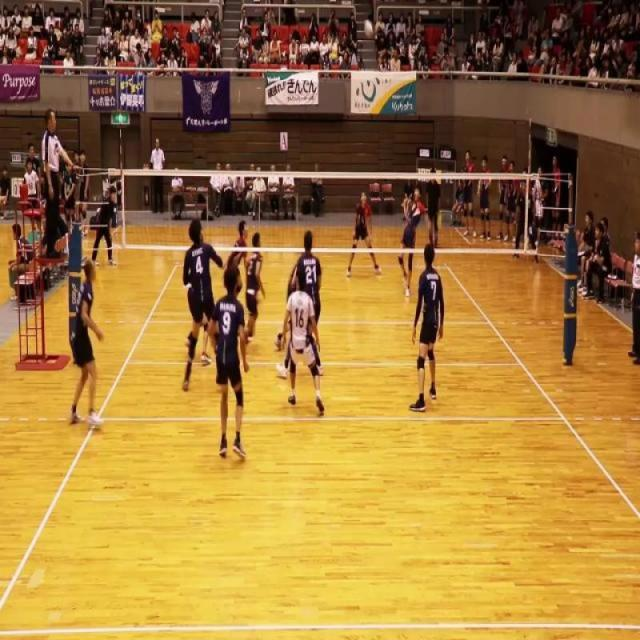volleyball: (364, 18, 373, 40)
